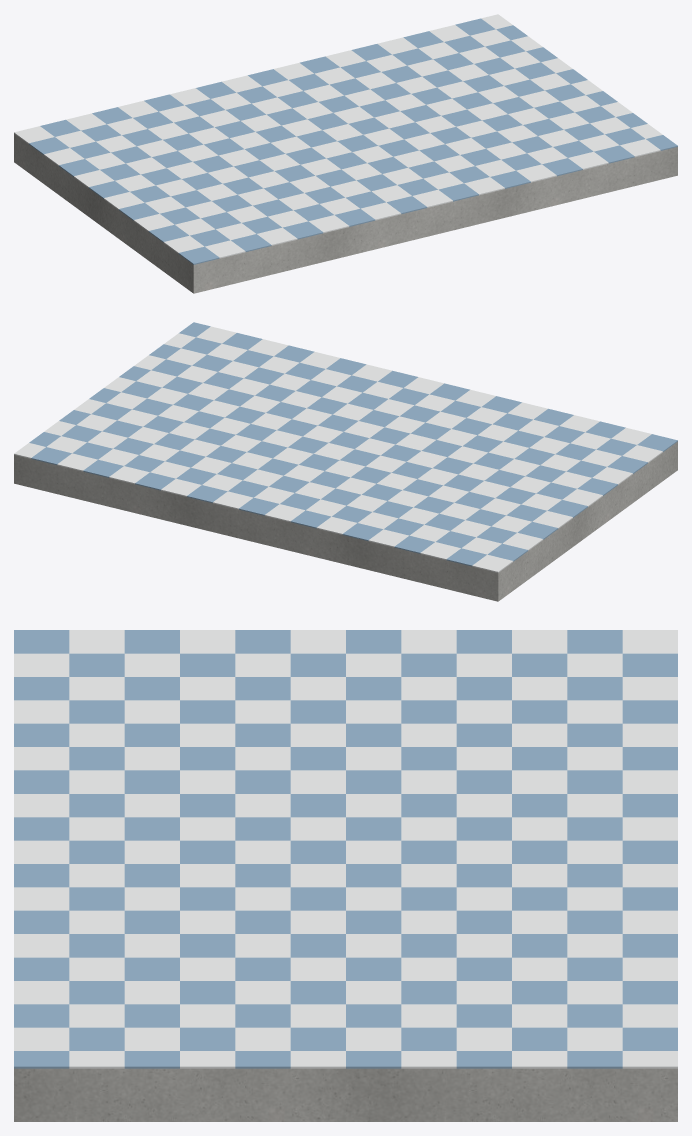
File: r_floor.glb
3 renders of one model, top to bottom at view 1: azimuth 30°, elevation 25°; view 2: azimuth 150°, elevation 25°; view 3: azimuth 270°, elevation 25°, orthographic. The views are drawn at different scales.
Parts seen in each view (by area): view 1: r_floor_tile_b, r_floor_tile, r_floor_concrete; view 2: r_floor_tile, r_floor_tile_b, r_floor_concrete; view 3: r_floor_tile, r_floor_tile_b, r_floor_concrete.
Boxes of the visible parts, x1,y1,x2,y2 form: r_floor_tile_b: (29,18,677,264); r_floor_tile: (14,14,662,258); r_floor_concrete: (14,133,677,293); r_floor_tile: (14,326,662,572); r_floor_tile_b: (29,322,677,566); r_floor_concrete: (14,441,677,601); r_floor_tile: (14,630,677,1068); r_floor_tile_b: (14,630,677,1068); r_floor_concrete: (14,1068,677,1121).
Bounding box in the file's own units: 5.6 × 0.33 × 3.6.
Materials: 3 (1 with a texture image).
